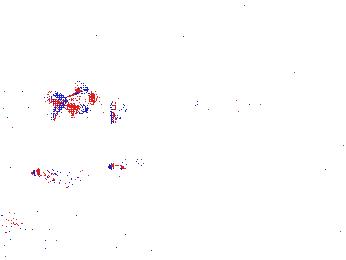red belly glassfish: (31, 163, 92, 186), (107, 154, 145, 174)
redtail glassfish: (185, 90, 269, 115), (169, 99, 236, 130), (45, 87, 96, 123), (106, 95, 130, 127)
